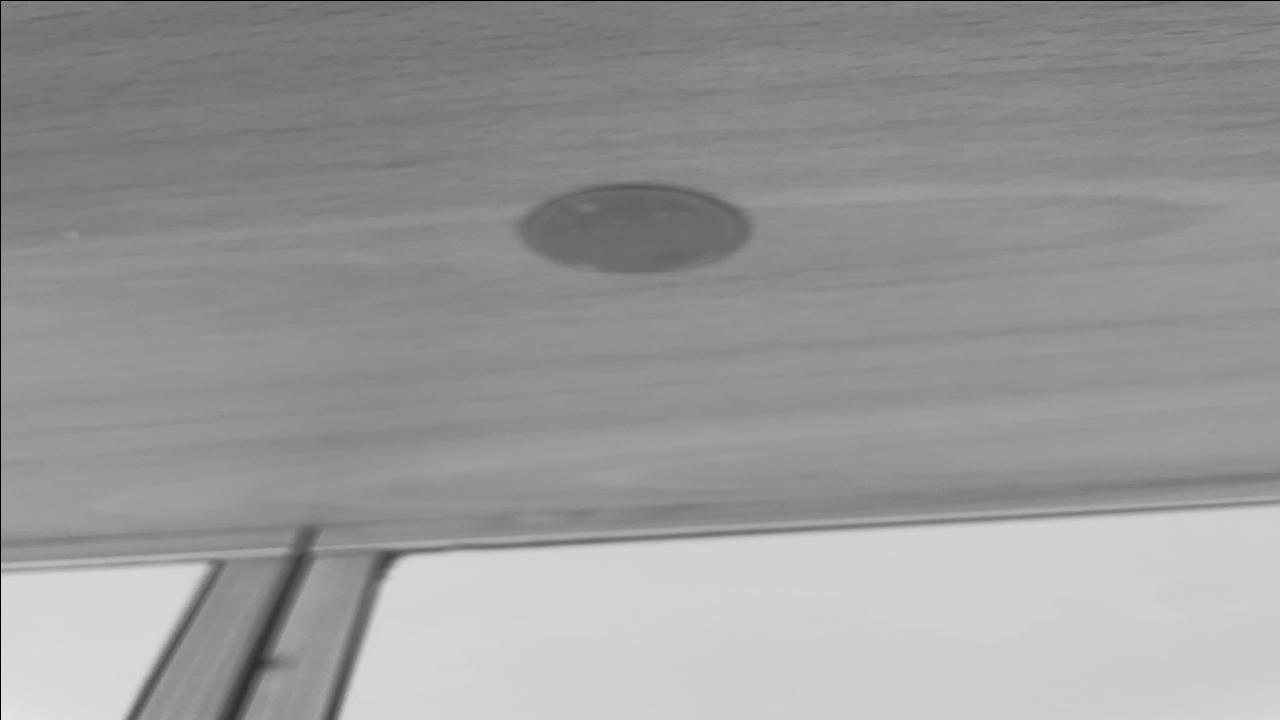coin: (512, 182, 754, 276)
